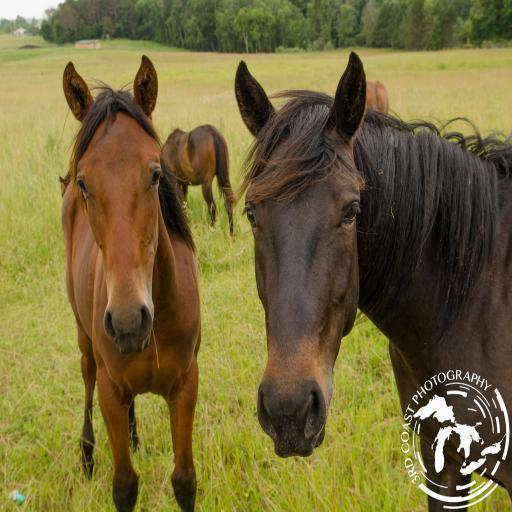horse: (230, 48, 512, 512), (55, 52, 199, 512), (158, 121, 233, 234), (360, 71, 386, 119)
